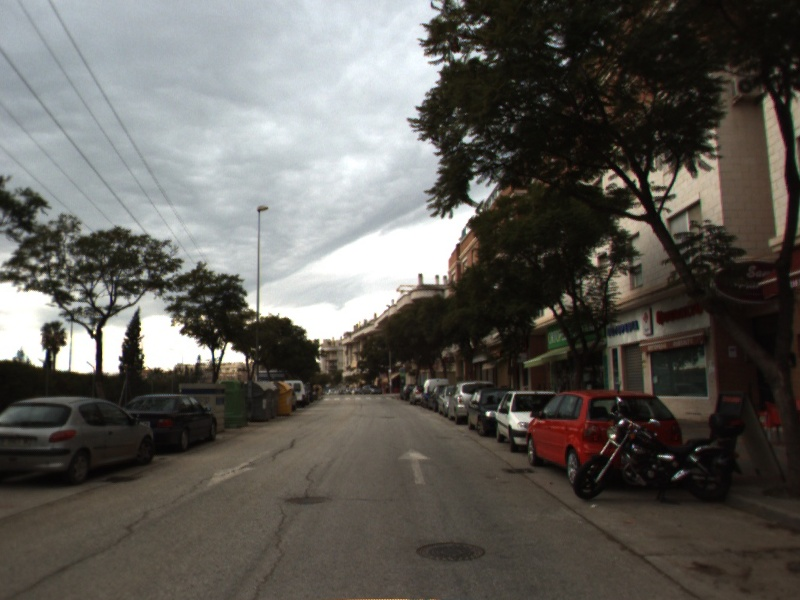STRAIGHT: (396, 445, 436, 486)
